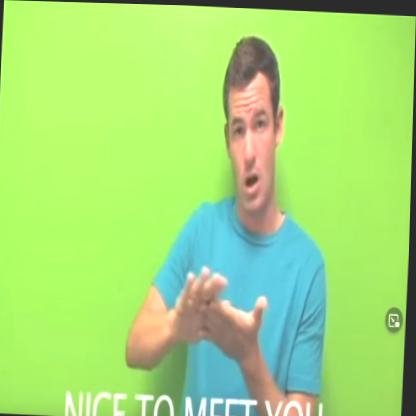NiceToMeetYou: (157, 259, 278, 377)
